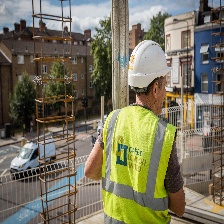helmet: (126, 39, 173, 93)
person: (102, 38, 186, 224)
vest: (105, 106, 181, 224)
